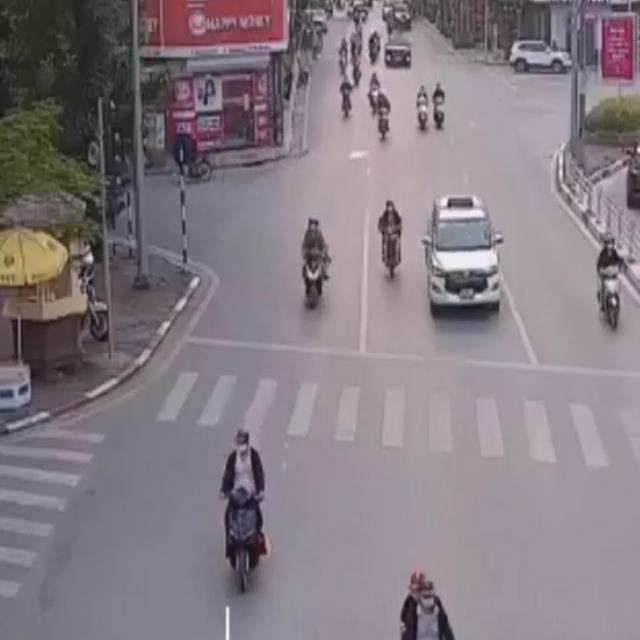car: (421, 188, 506, 323)
motorbike: (215, 424, 276, 599), (296, 215, 332, 317), (594, 234, 625, 331), (375, 194, 405, 285)
